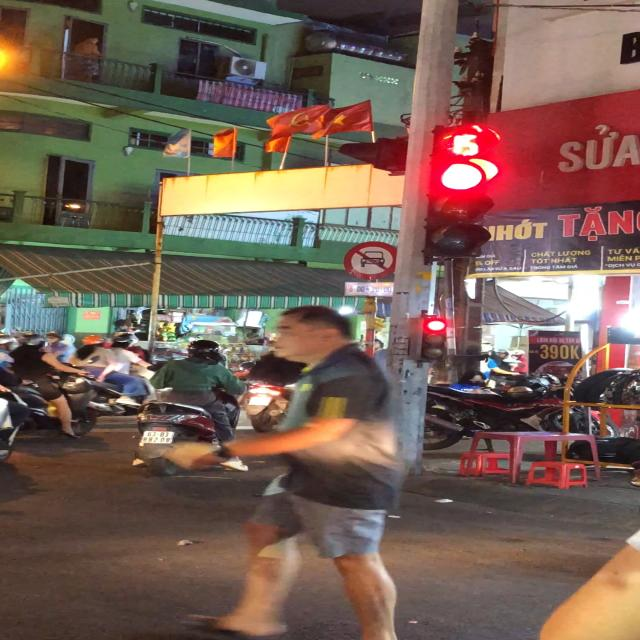Bien bao cam xe oto: (342, 240, 403, 281)
